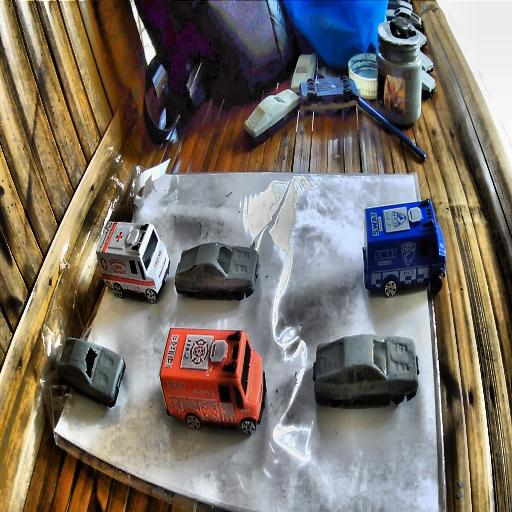ambulance: (96, 219, 170, 303)
fire_truck: (159, 327, 265, 436)
normal_car: (313, 334, 419, 408), (174, 241, 259, 303), (57, 336, 125, 409)
police car: (362, 199, 446, 299)
